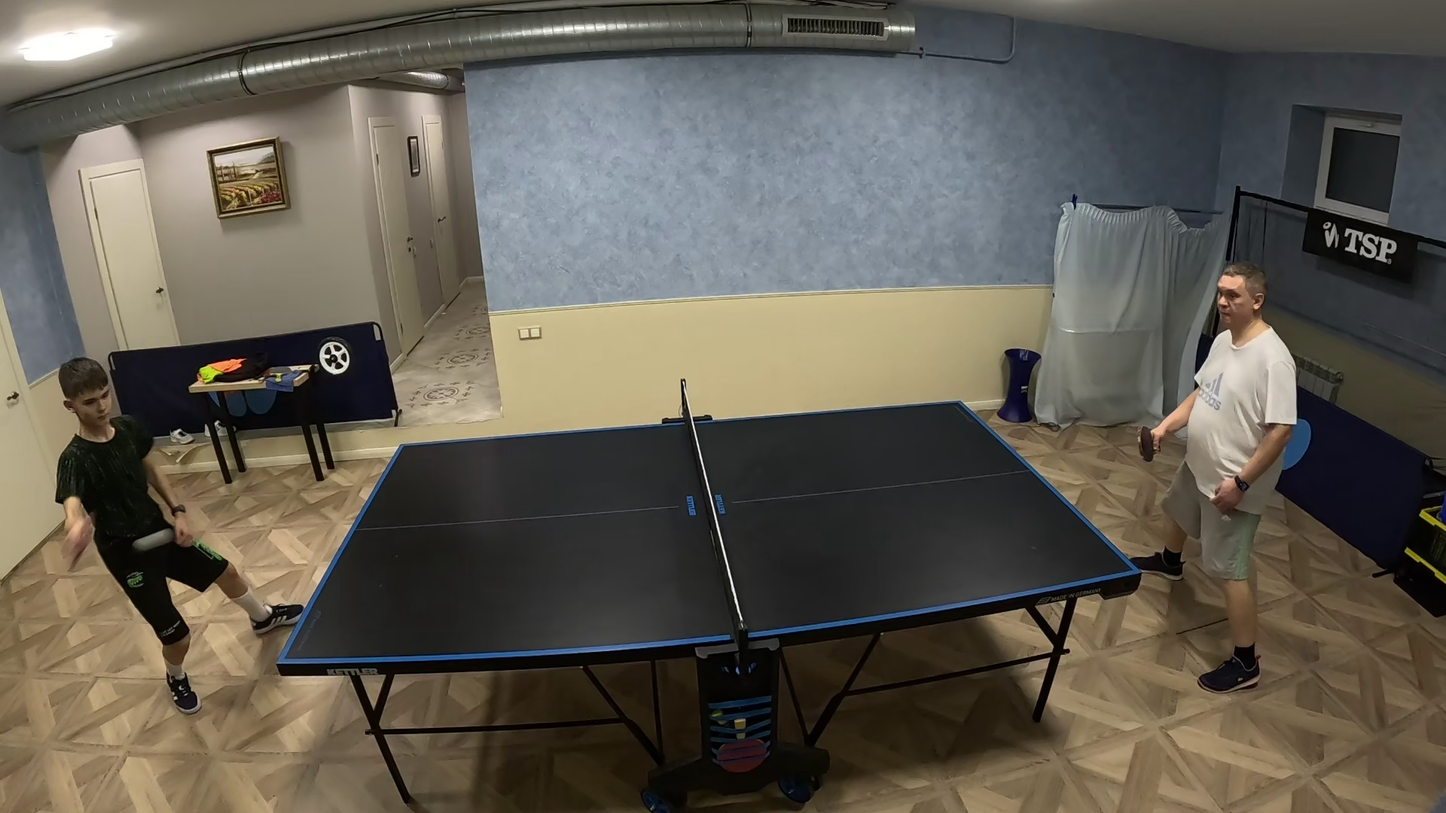Ball: (132, 528, 173, 551)
